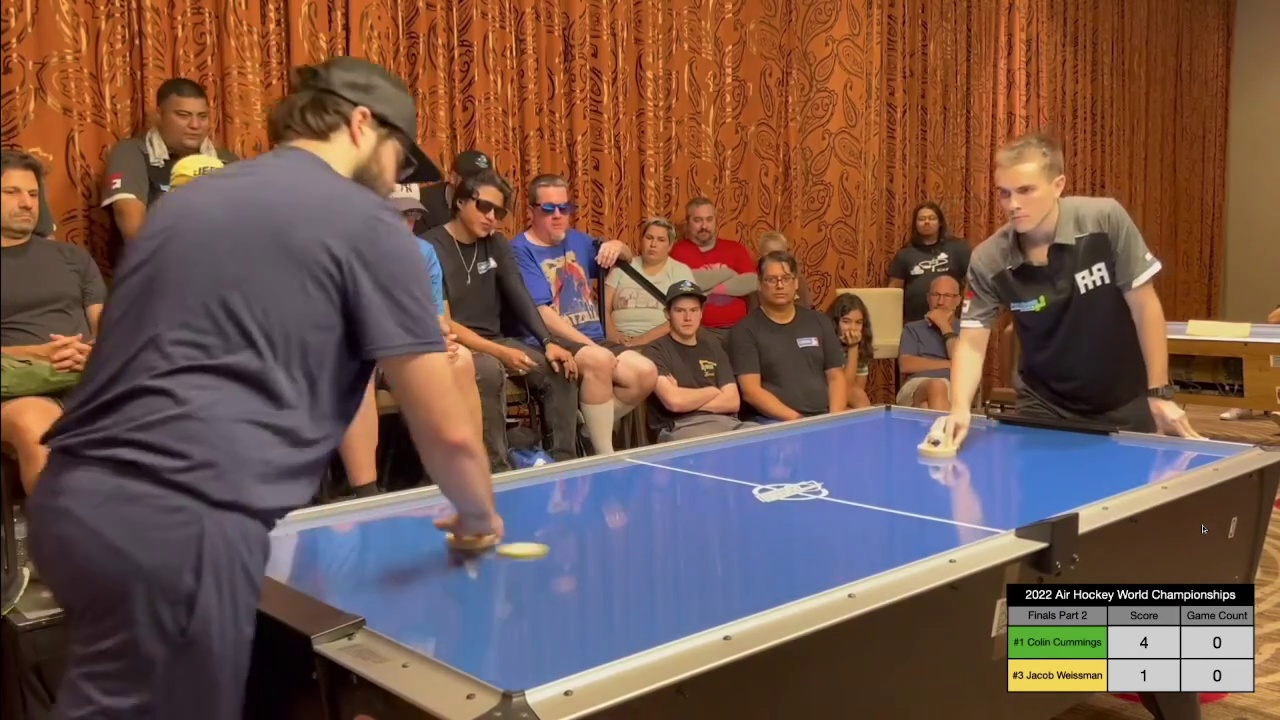player: (442, 509, 505, 549), (911, 421, 961, 455)
puck: (497, 541, 547, 558)
table: (236, 404, 1280, 697)
